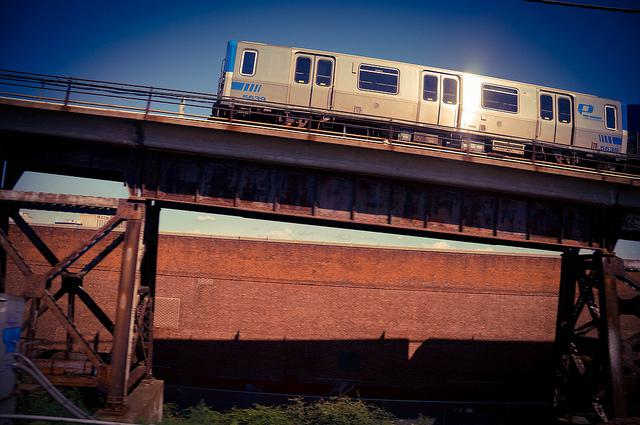Train: (212, 39, 640, 170)
